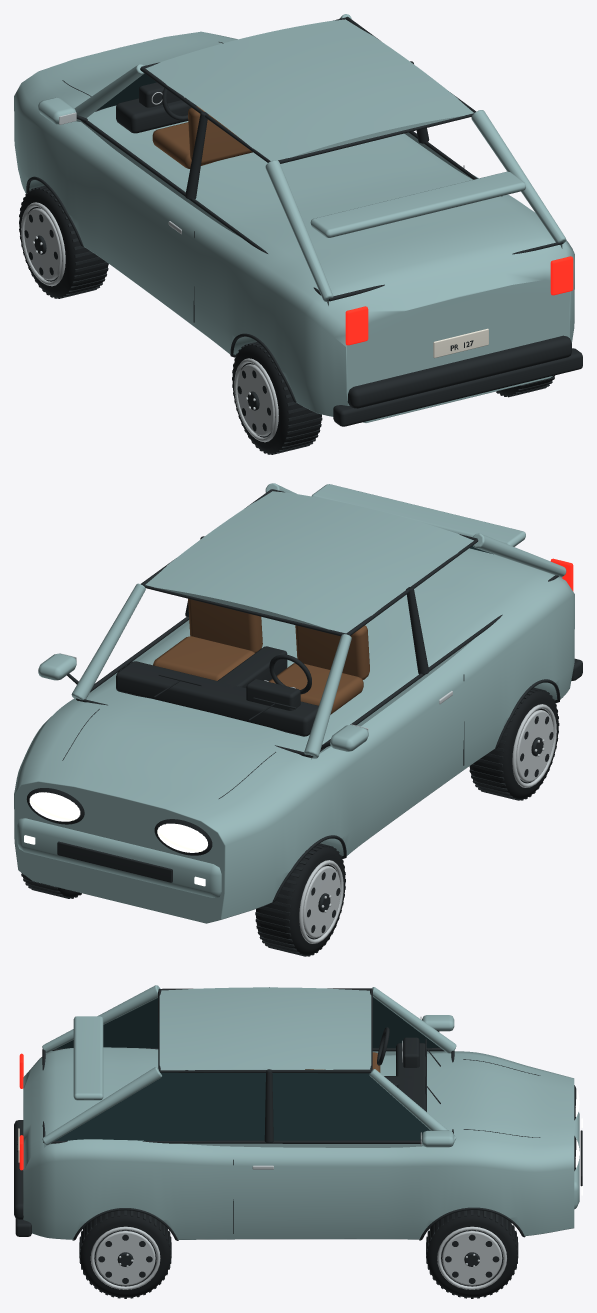
The model's file is traffic-compact.glb.
3 views of the same model, one above another, from view 1: azimuth 30°, elevation 25°; view 2: azimuth 150°, elevation 25°; view 3: azimuth 270°, elevation 25° (orthographic). The views are drawn at different scales.
Visible parts, largest first — view 1: Traffic enamel.002, Traffic polymer.002, Traffic tire rubber.002, Traffic satin alloy.002, Traffic upholstery.002, Traffic ruby lamps.002, Traffic registration.002, Traffic smoked glazing.002; view 2: Traffic enamel.002, Traffic polymer.002, Traffic upholstery.002, Traffic tire rubber.002, Traffic satin alloy.002, Traffic ivory lamps.002; view 3: Traffic enamel.002, Traffic smoked glazing.002, Traffic polymer.002, Traffic satin alloy.002, Traffic tire rubber.002.
Boxes of the visible parts, x1,y1,x2,y2 form: Traffic enamel.002: (14, 14, 574, 422); Traffic polymer.002: (19, 16, 582, 454); Traffic tire rubber.002: (19, 186, 554, 453); Traffic satin alloy.002: (21, 92, 278, 442); Traffic upholstery.002: (152, 106, 252, 168); Traffic ruby lamps.002: (345, 256, 573, 345); Traffic registration.002: (433, 328, 488, 358); Traffic smoked glazing.002: (97, 73, 156, 110); Traffic enamel.002: (14, 483, 574, 923); Traffic polymer.002: (21, 489, 582, 956); Traffic upholstery.002: (153, 598, 369, 714); Traffic tire rubber.002: (21, 688, 558, 955); Traffic satin alloy.002: (59, 653, 556, 943); Traffic ivory lamps.002: (24, 792, 207, 886); Traffic enamel.002: (23, 985, 579, 1239); Traffic smoked glazing.002: (55, 997, 439, 1140); Traffic polymer.002: (14, 987, 582, 1298); Traffic satin alloy.002: (90, 1016, 506, 1289); Traffic tire rubber.002: (79, 1210, 517, 1297).
Bounding box in the file's own units: 2 × 1.65 × 3.84.
